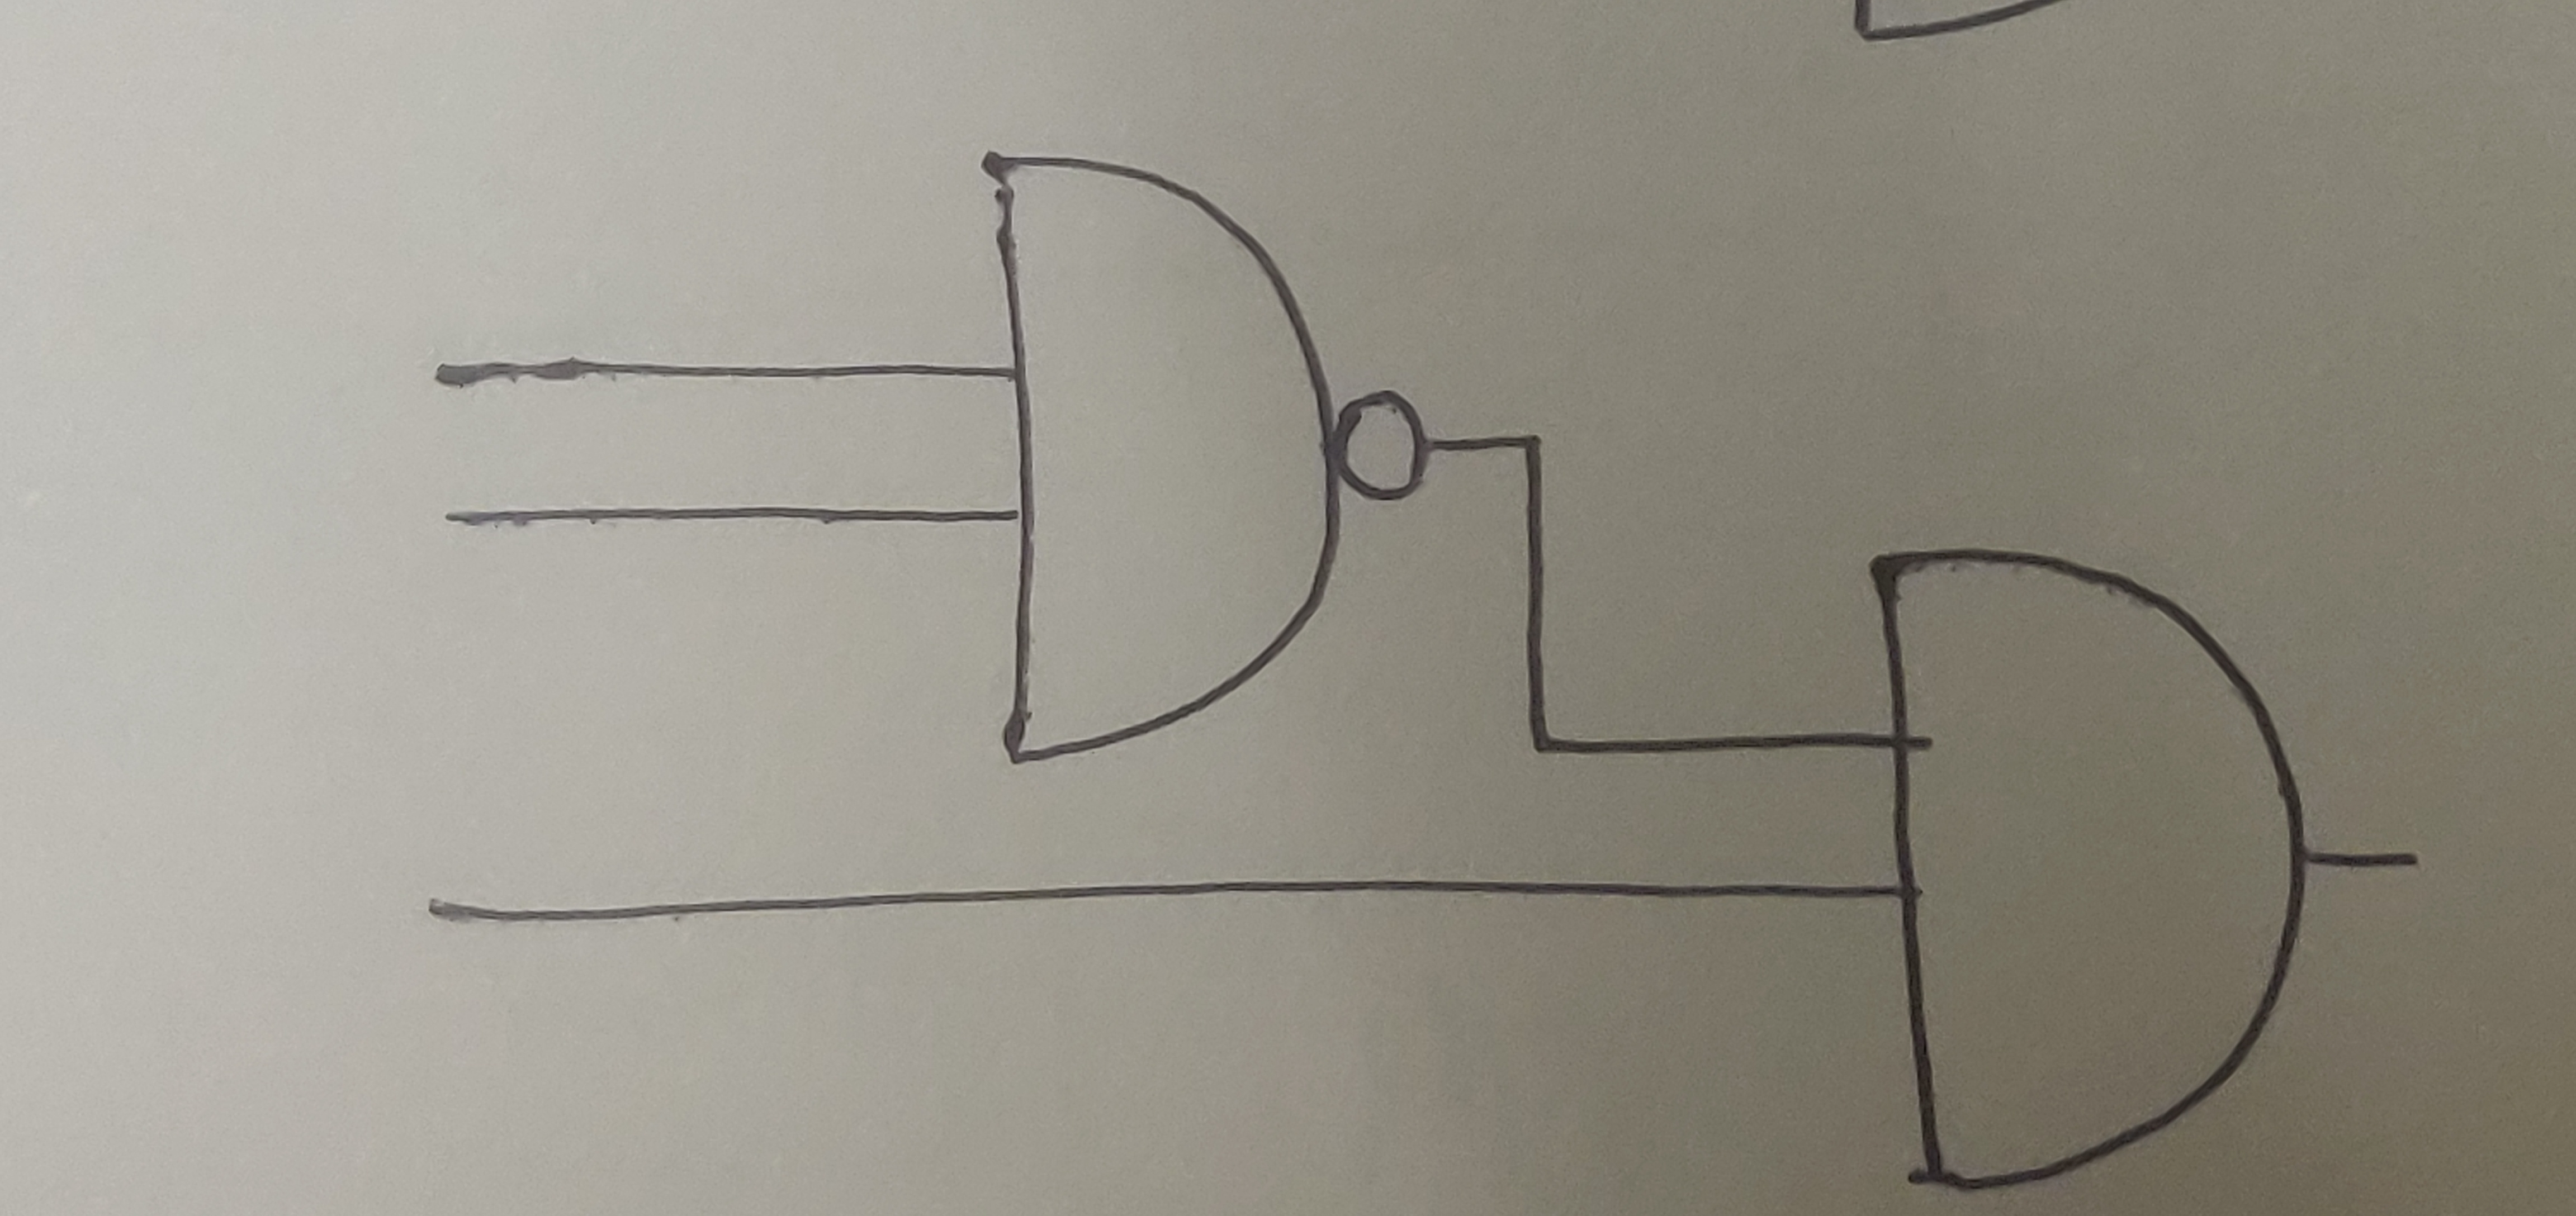and: (1866, 549, 2316, 1200), (973, 148, 1344, 762)
not: (1334, 388, 1436, 516)
